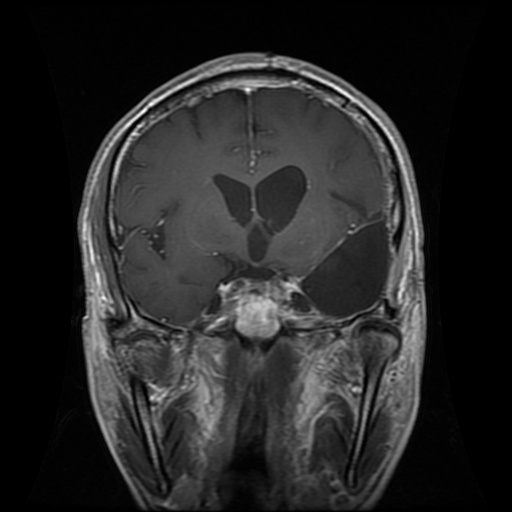glioma: (298, 201, 397, 320)
